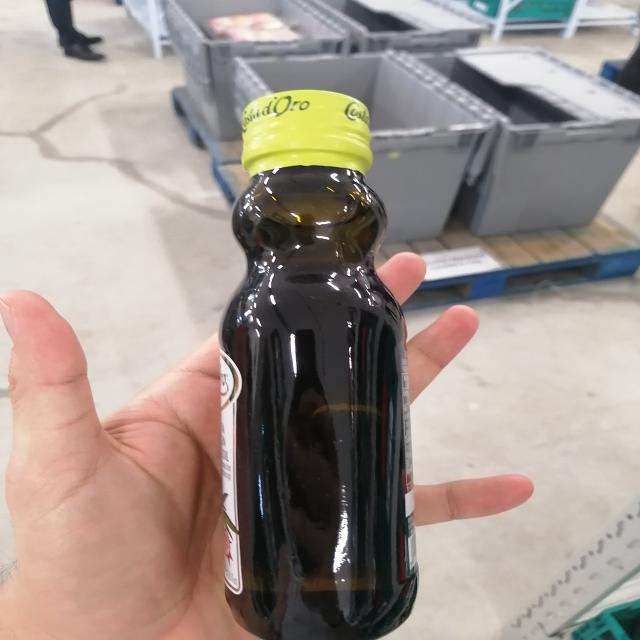object_name: (206, 99, 421, 640)
